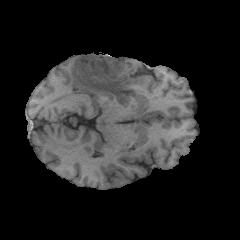glioma: (70, 52, 137, 107)
